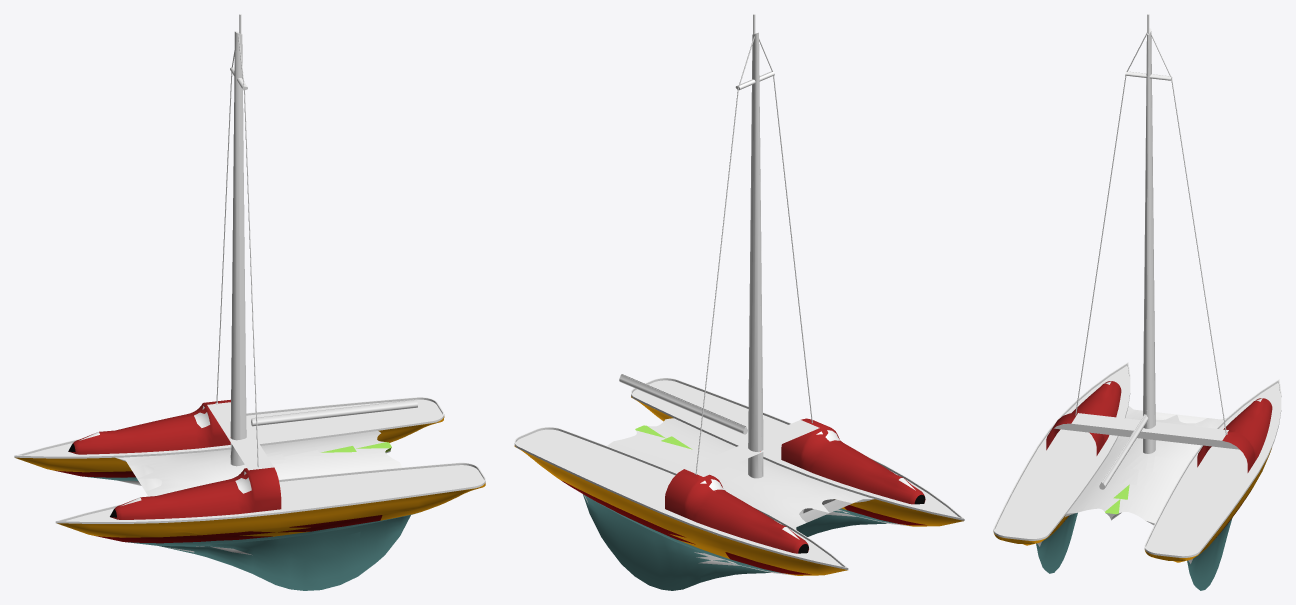
File: boat.obj
3 renders of one model, left to right at view 1: azimuth 30°, elevation 25°; view 2: azimuth 150°, elevation 25°; view 3: azimuth 270°, elevation 25°, orthographic. The views are drawn at different scales.
Parts seen in each view (by area): view 1: boat1:Layer0_001; view 2: boat1:Layer0_001; view 3: boat1:Layer0_001.
Boxes of the visible parts, x1,y1,x2,y2 form: boat1:Layer0_001: (14,14,485,590); boat1:Layer0_001: (514,14,964,590); boat1:Layer0_001: (993,14,1281,590).
Size of the model in its own units: 86.78 by 112 by 54.4.
